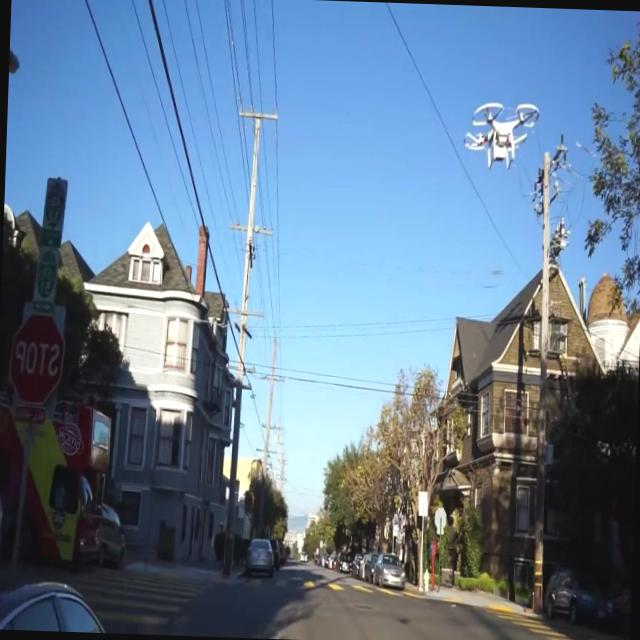drone: (460, 99, 541, 172)
